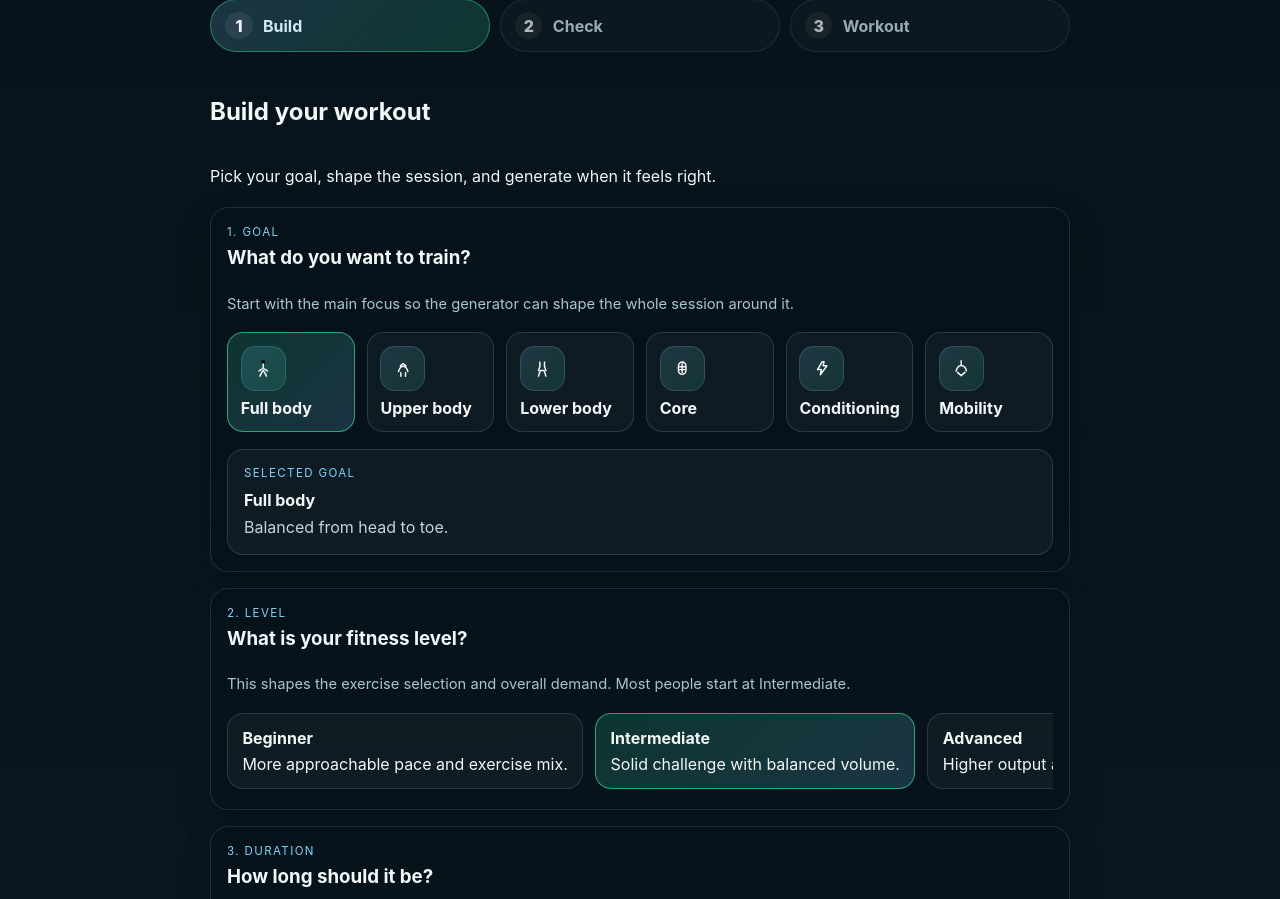
Test: BuilderScreen › updates visible selection state when the user changes goal, duration, and format
Click the button "Conditioning" at (850, 382), box [786,332,913,432]
(page scrolled)
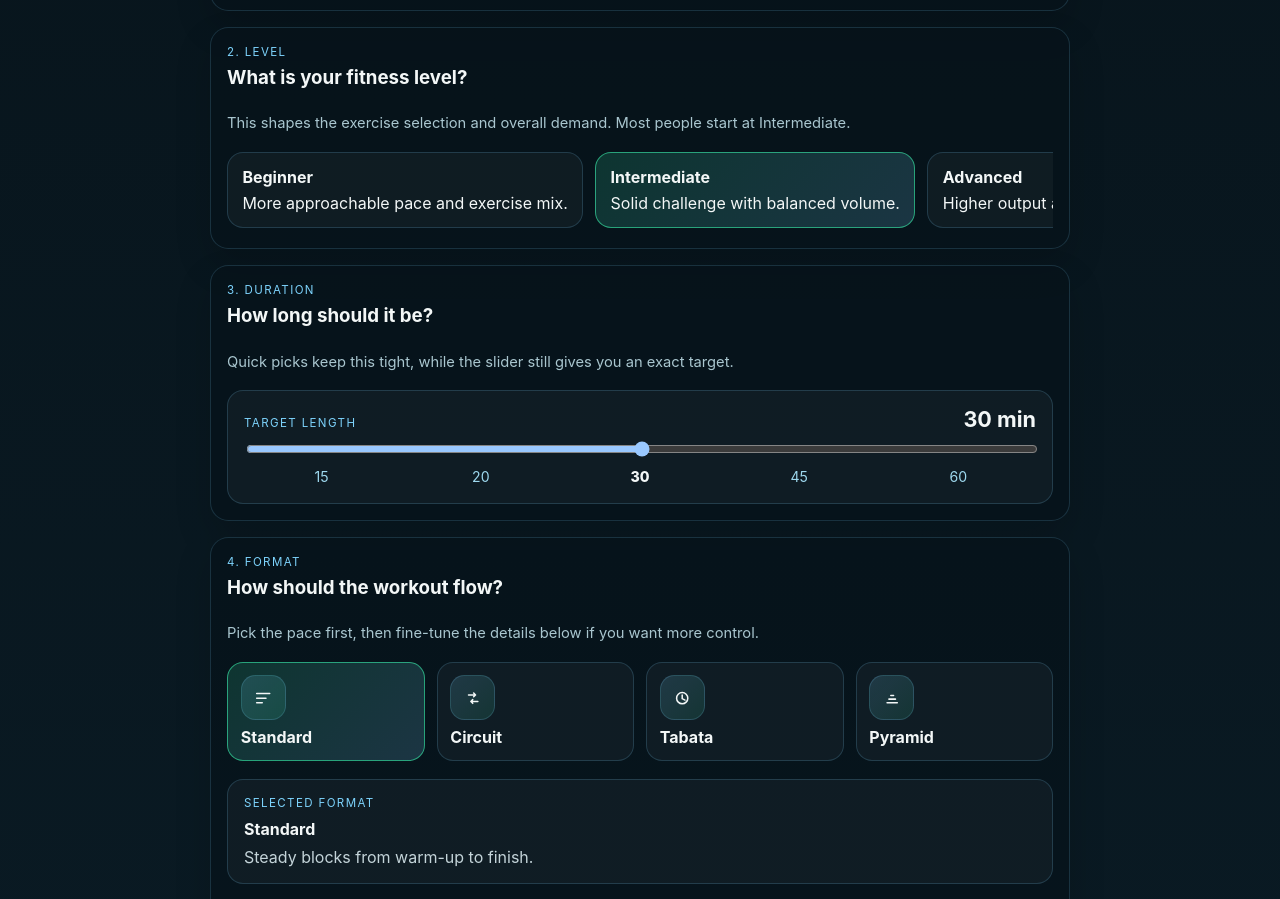
Set the slider named "workout duration" to "3" at (836, 449), box [246,441,1038,457]
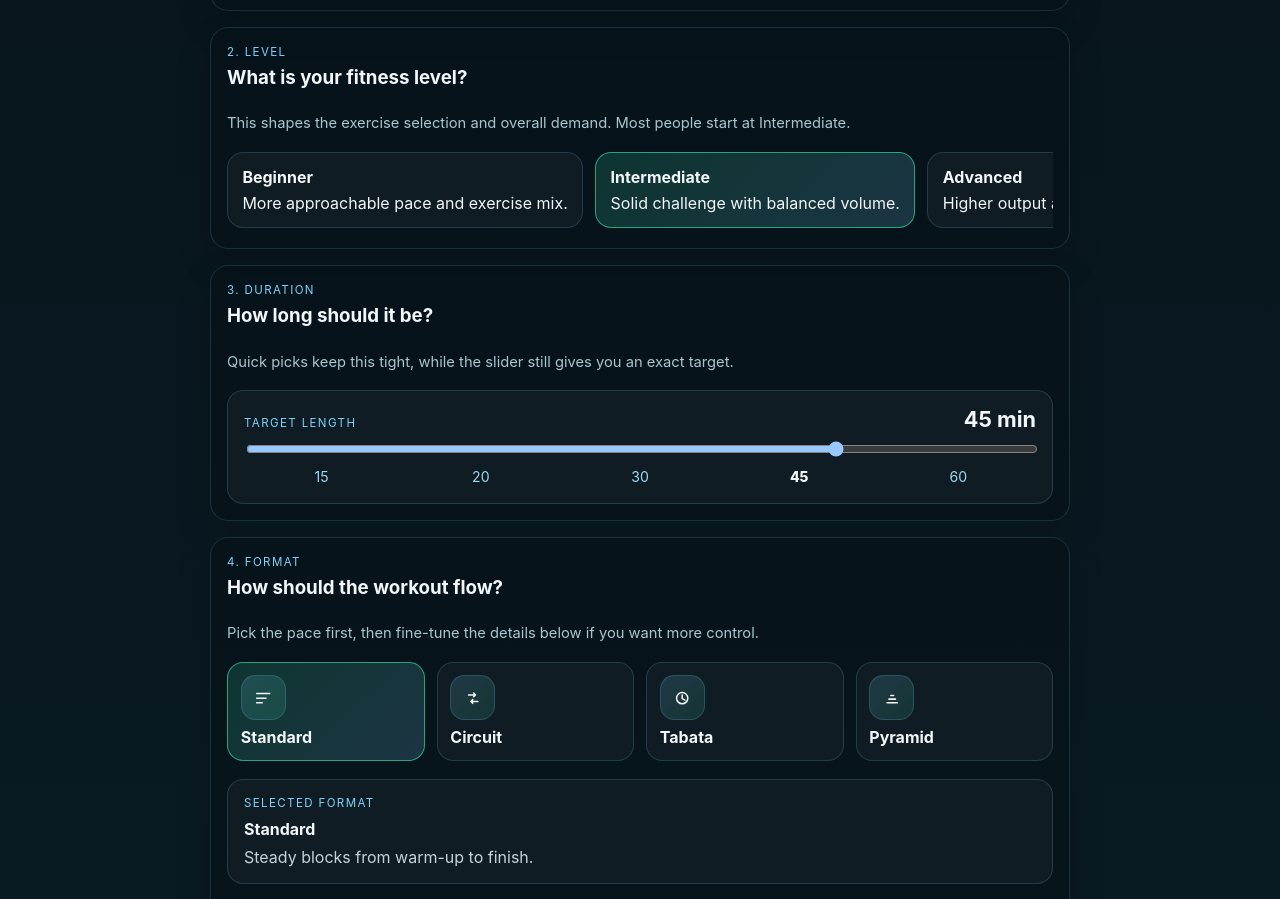
Click the button "Tabata" at (745, 711), box [646,662,844,761]
(page scrolled)
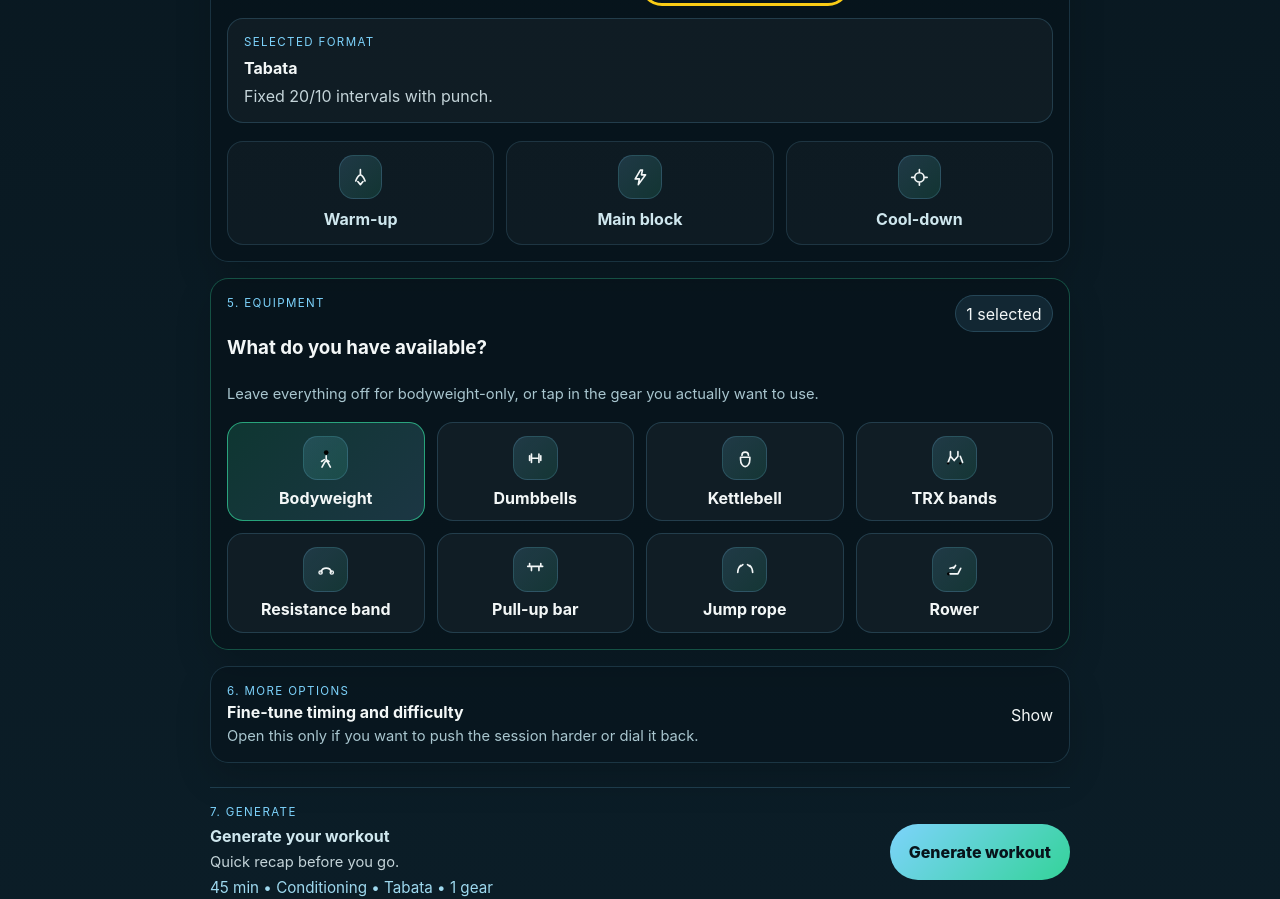
Expected: the text "45 min • Conditioning • Tabata • 1 gear" is shown, [210,878,493,898]
